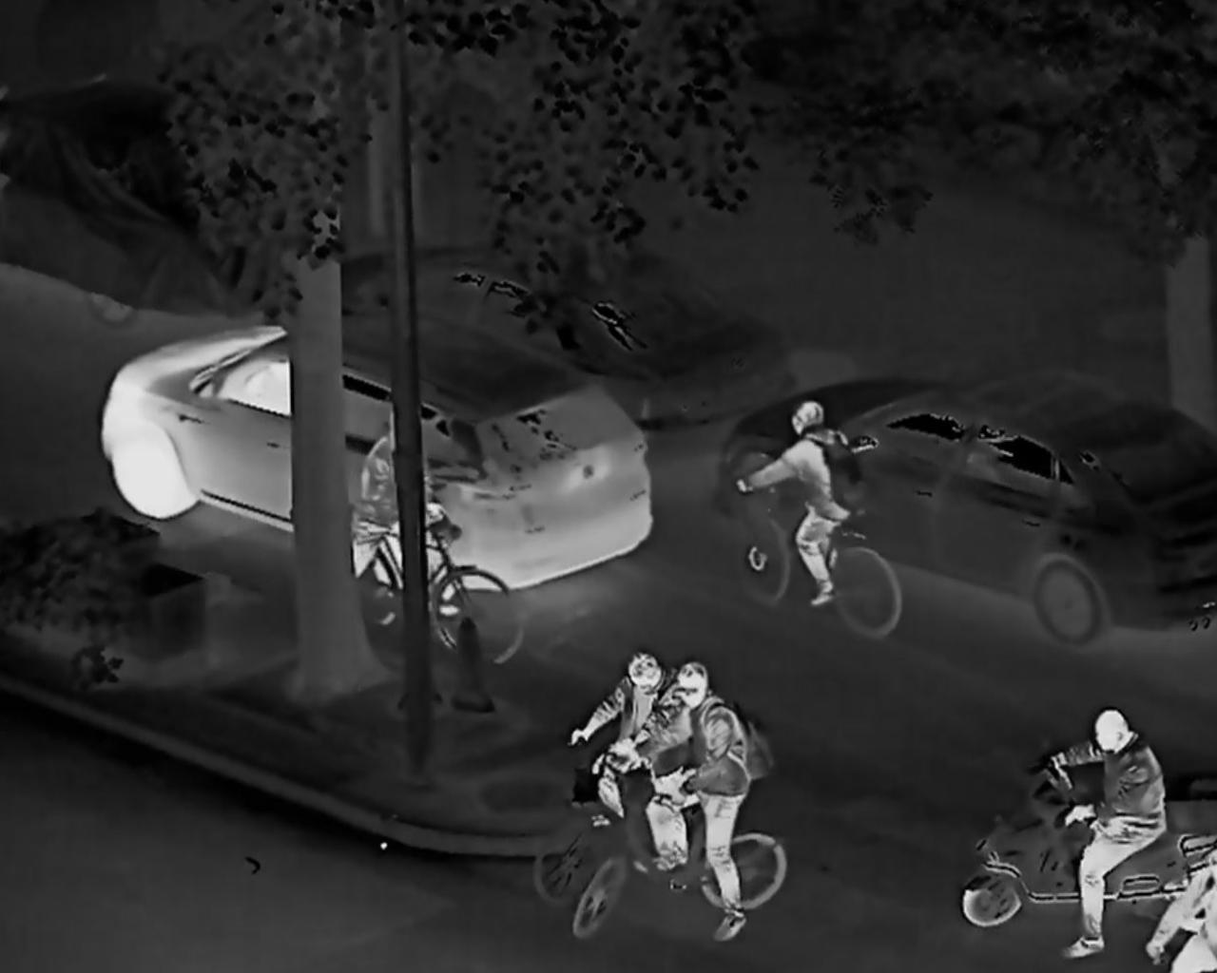person: (724, 391, 874, 632), (1043, 692, 1171, 973), (653, 658, 771, 944), (577, 640, 681, 885), (358, 413, 448, 639)
